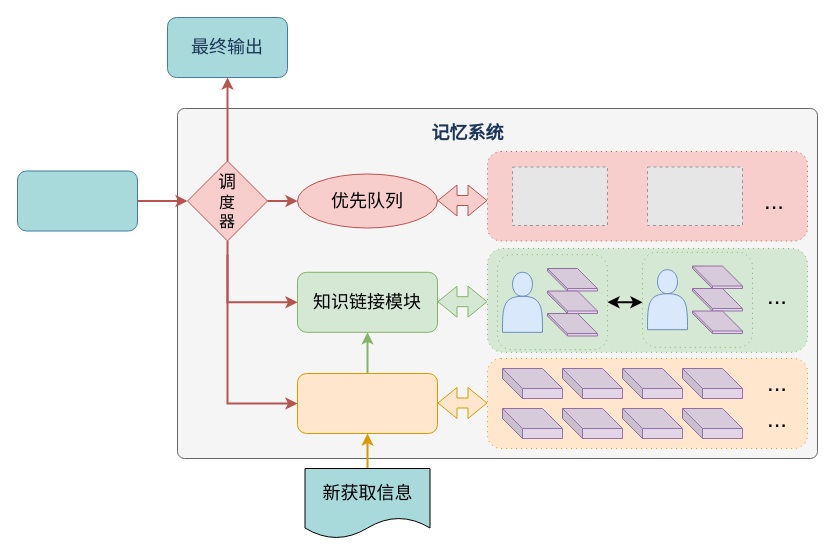
This 835x556 diagram has some shape labels left out. Grey dashed boxes stand in for pictures. Here are the shapes that lost their labels. From the top down, the box of each, then its label:
(16, 170, 138, 231): 提问
(296, 372, 438, 434): 知识提取模块
